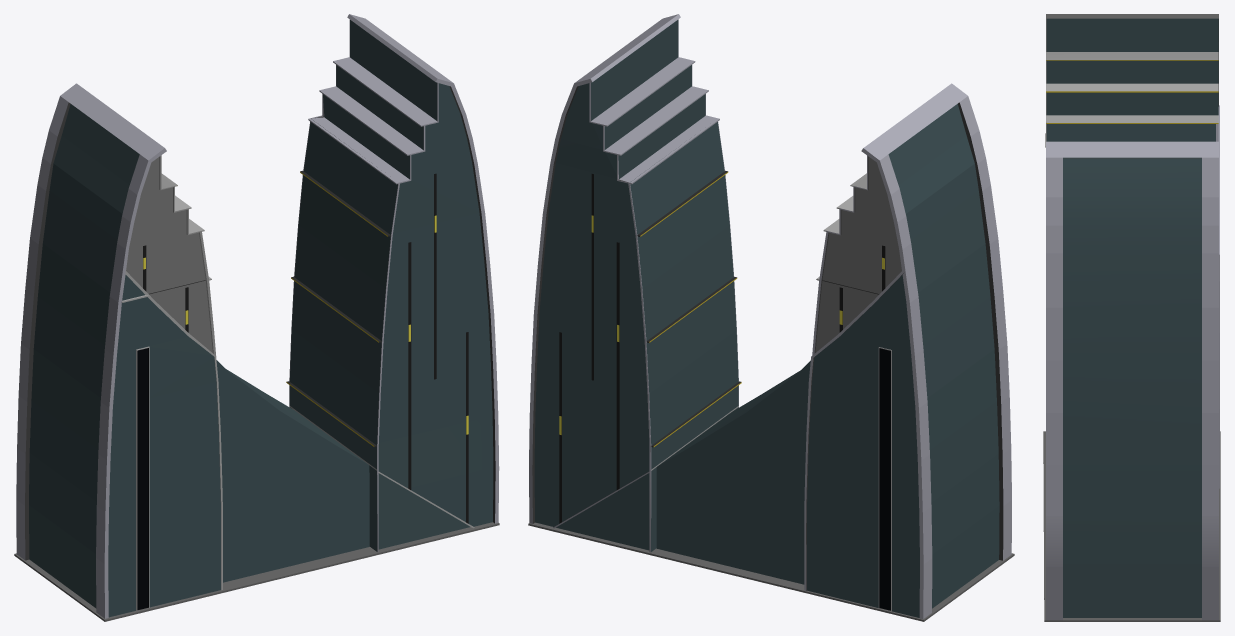
Rendered from Building_001_2st_L3.fbx.
3 views of the same model, side by side, from view 1: azimuth 30°, elevation 25°; view 2: azimuth 150°, elevation 25°; view 3: azimuth 270°, elevation 25° (orthographic). The views are drawn at different scales.
Visible parts, largest first — view 1: Building_001_2st_L3; view 2: Building_001_2st_L3; view 3: Building_001_2st_L3.
Part boxes in pixels (bbox=[...]): Building_001_2st_L3: bbox=[14, 14, 499, 621]; Building_001_2st_L3: bbox=[528, 14, 1014, 621]; Building_001_2st_L3: bbox=[1043, 14, 1220, 621].
Bounding box in the file's own units: 72.48 × 80.75 × 28.73.
